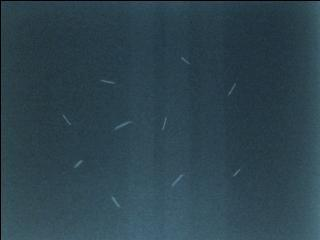scratch: (224, 79, 238, 99), (69, 158, 86, 173), (61, 113, 76, 129), (108, 193, 122, 210), (113, 120, 133, 130), (229, 166, 242, 179), (171, 174, 184, 187), (99, 78, 117, 85), (180, 56, 191, 65), (161, 117, 168, 131)
